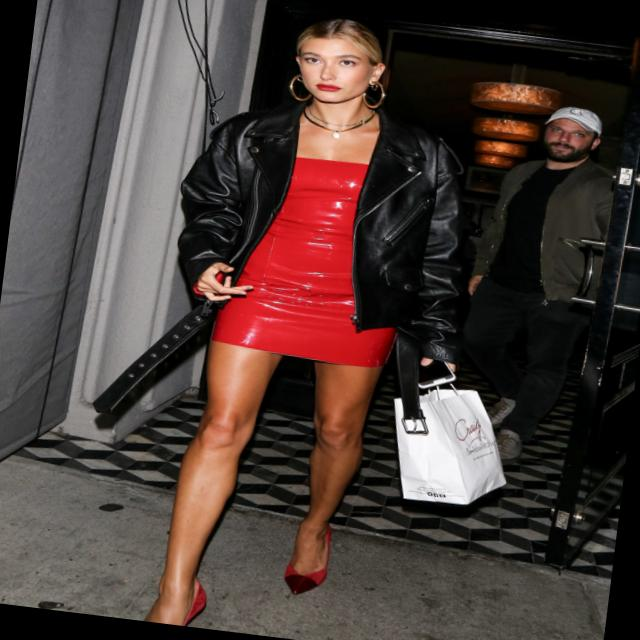Jacket: (154, 76, 488, 361), (464, 148, 631, 336)
